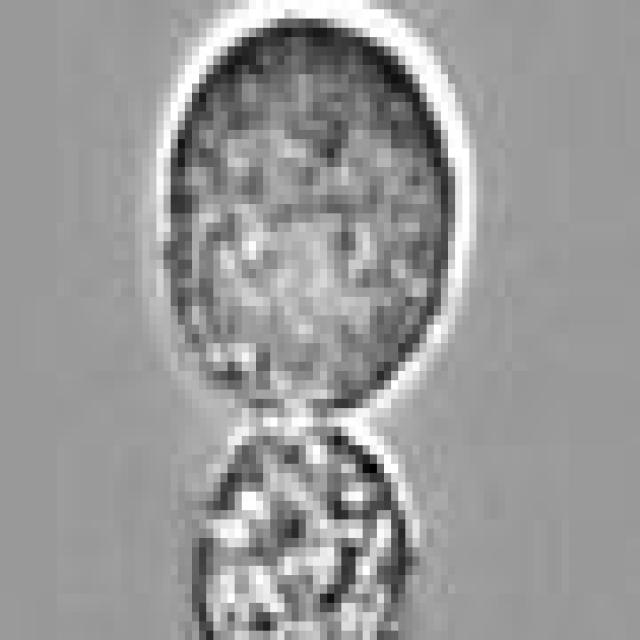Cancer Cell: (164, 10, 462, 418)
WBC: (192, 417, 412, 640)
